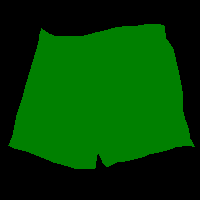mutande: (8, 23, 195, 169)
